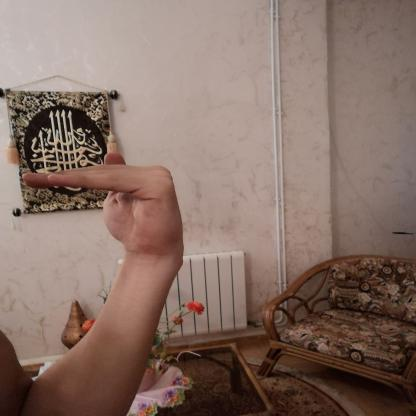KHAA: (5, 141, 202, 274)
